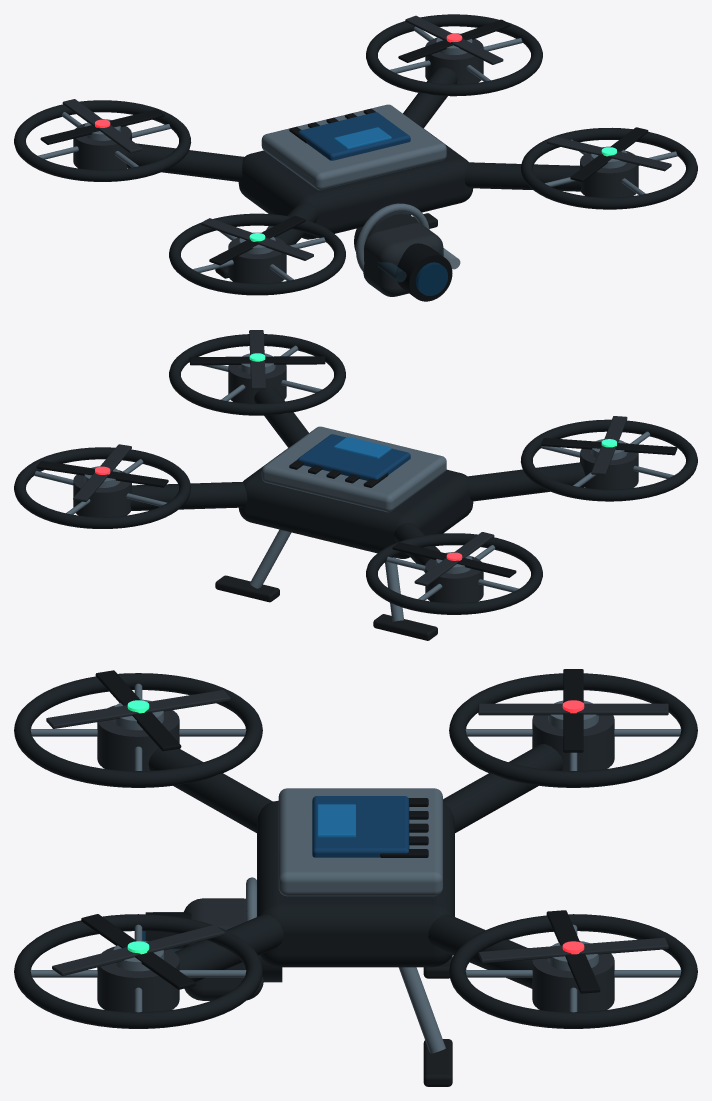
The model's file is drone.glb.
The picture shows the model from 3 angles, top to bottom: view 1: azimuth 30°, elevation 25°; view 2: azimuth 150°, elevation 25°; view 3: azimuth 270°, elevation 25°; orthographic projection. The views are drawn at different scales.
Visible parts, largest first — view 1: Futuristic professional cinema drone, Aerodynamic carbon-fibre fuselage, Carbon propeller (×8), Titanium upper shell, Brushless motor (×4), Cinema camera body, Navigation module, Camera lens barrel, Optical lens, Flight telemetry display, Three-axis camera gimbal; view 2: Futuristic professional cinema drone, Aerodynamic carbon-fibre fuselage, Carbon propeller (×8), Titanium upper shell, Brushless motor (×4), Navigation module, Landing skid (×2), Flight telemetry display; view 3: Futuristic professional cinema drone, Aerodynamic carbon-fibre fuselage, Carbon propeller (×8), Brushless motor (×4), Titanium upper shell, Navigation module, Cinema camera body, Flight telemetry display, Landing skid.
Boxes of the visible parts, box(x1,y1,x2,y2) form: Futuristic professional cinema drone: box(14, 14, 697, 295); Aerodynamic carbon-fibre fuselage: box(238, 119, 473, 239); Carbon propeller (×8): box(40, 15, 671, 265); Titanium upper shell: box(261, 104, 446, 190); Brushless motor (×4): box(73, 37, 638, 283); Cinema camera body: box(363, 223, 443, 296); Navigation module: box(298, 112, 410, 160); Camera lens barrel: box(396, 243, 452, 301); Optical lens: box(416, 262, 447, 295); Flight telemetry display: box(334, 127, 391, 149); Three-axis camera gimbal: box(354, 212, 419, 251); Futuristic professional cinema drone: box(14, 334, 697, 621); Aerodynamic carbon-fibre fuselage: box(238, 439, 473, 558); Carbon propeller (×8): box(36, 330, 677, 586); Titanium upper shell: box(261, 426, 446, 512); Brushless motor (×4): box(73, 364, 638, 602); Navigation module: box(298, 434, 410, 480); Landing skid (×2): box(215, 575, 437, 640); Flight telemetry display: box(334, 436, 391, 458); Futuristic professional cinema drone: box(14, 673, 697, 1053); Aerodynamic carbon-fibre fuselage: box(257, 800, 454, 967); Carbon propeller (×8): box(46, 669, 668, 993); Brushless motor (×4): box(97, 705, 614, 1011); Titanium upper shell: box(278, 788, 442, 896); Navigation module: box(312, 796, 409, 857); Cinema camera body: box(182, 898, 263, 1000); Flight telemetry display: box(317, 804, 355, 837); Landing skid: box(423, 1039, 452, 1086).
Bounding box in the file's own units: 3.39 × 0.8935 × 2.83.
